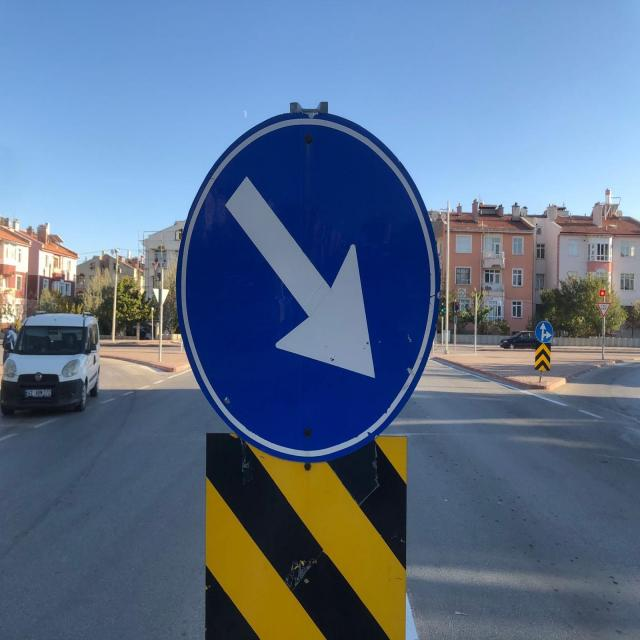compulsory_keep_right: (171, 98, 444, 465)
